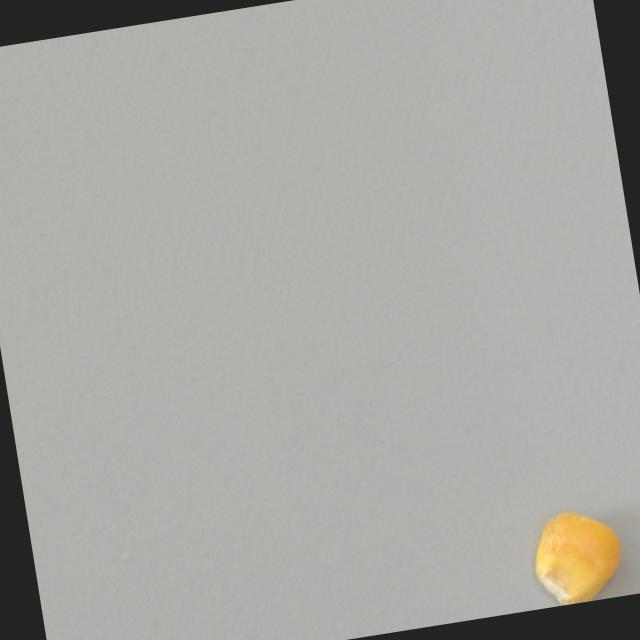pelicula: (524, 500, 633, 609)
